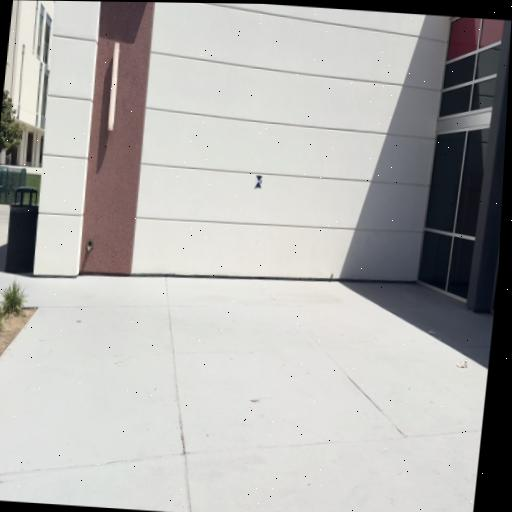target0: (254, 175, 263, 188)
